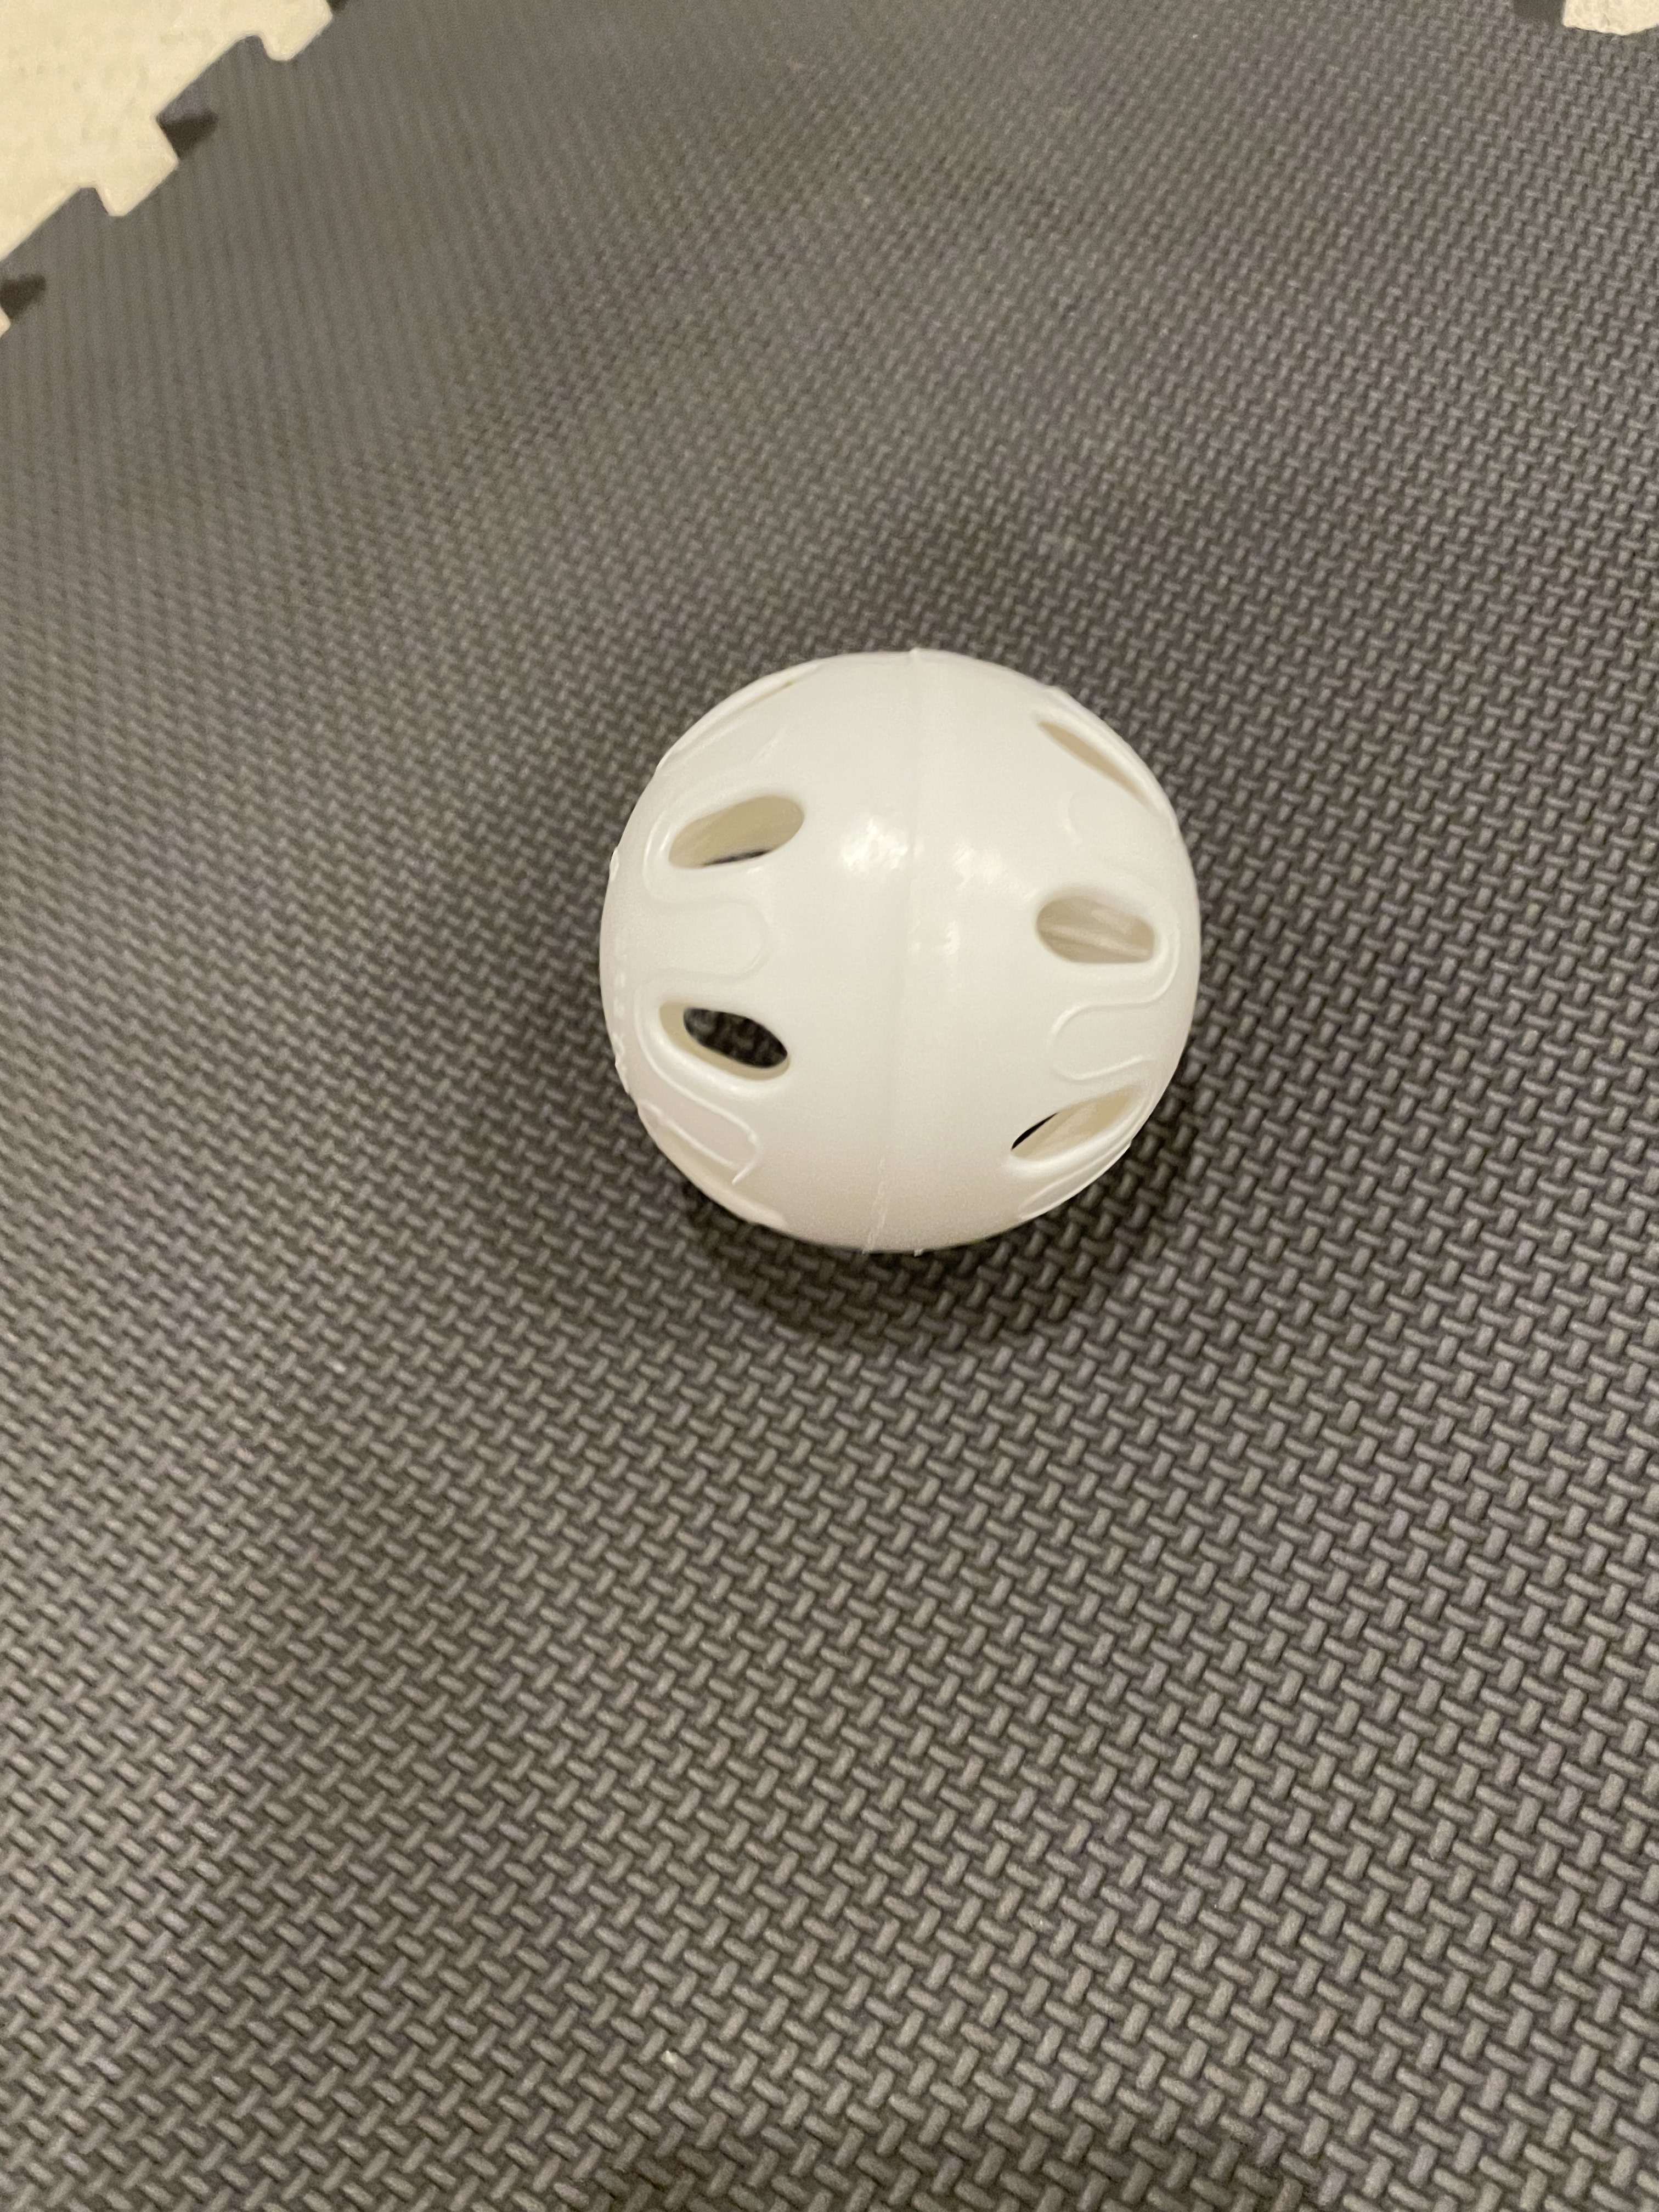ball: (547, 596, 1269, 1339)
